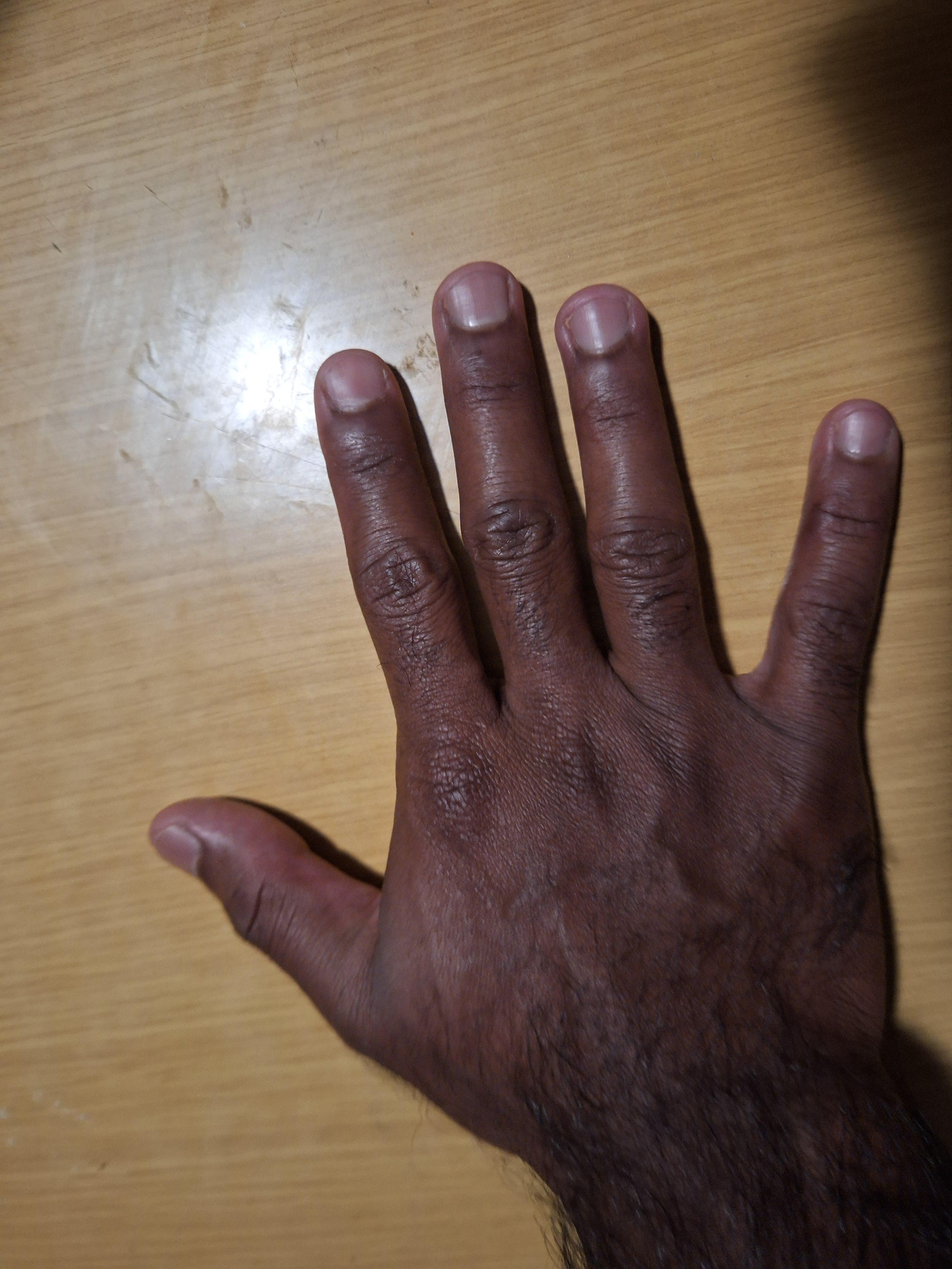Fingernail: (444, 271, 510, 328), (324, 356, 386, 410), (567, 299, 629, 349), (838, 411, 890, 458), (153, 825, 202, 874)
